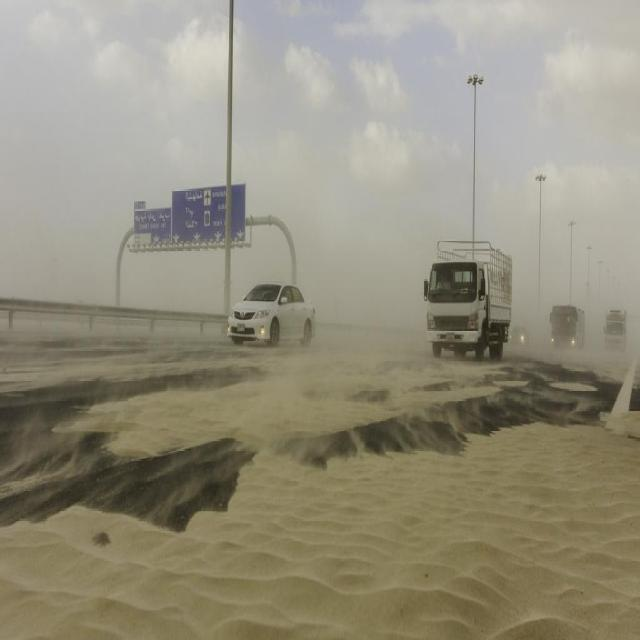Car: (228, 270, 318, 343)
Truck: (424, 225, 515, 359)
